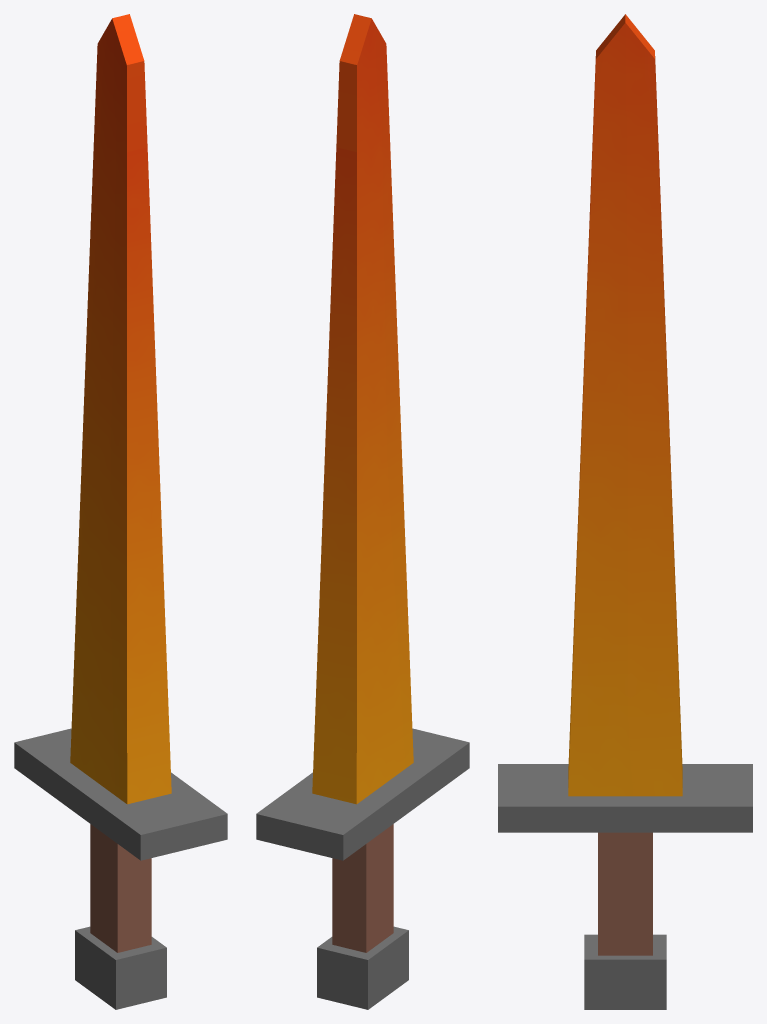
The model's file is sword1.fbx.
3 views of the same model, side by side, from view 1: azimuth 30°, elevation 25°; view 2: azimuth 150°, elevation 25°; view 3: azimuth 270°, elevation 25° (orthographic).
Visible parts, largest first — view 1: Sword1; view 2: Sword1; view 3: Sword1.
Part boxes in pixels (x1,y1,x2,y2): Sword1: [14, 14, 227, 1009]; Sword1: [256, 14, 469, 1009]; Sword1: [498, 14, 752, 1009].
Bounding box in the file's own units: 4.62 × 49.34 × 11.64.
